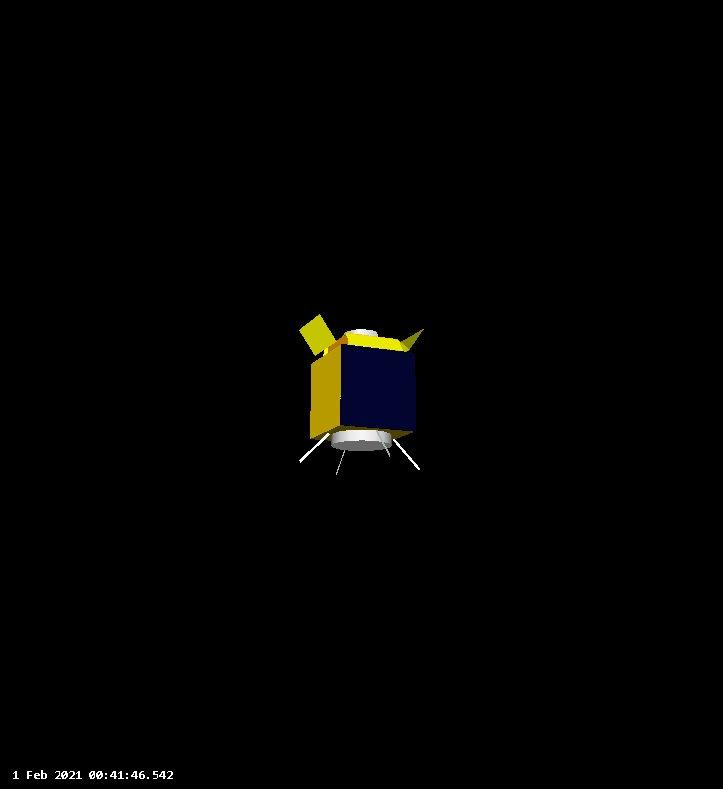antenna: (328, 427, 397, 453)
body: (307, 341, 417, 447)
solar: (338, 342, 420, 434)
